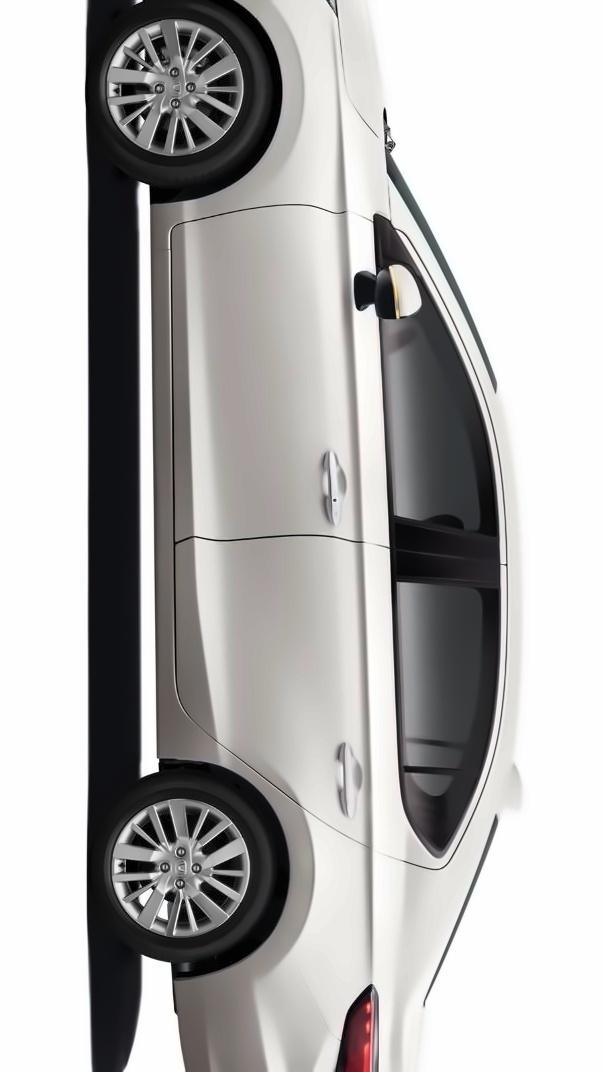Car hood: (320, 0, 417, 141)
Fender - -F-L-: (150, 0, 404, 224)
Fender - -R-L-: (174, 734, 484, 1003)
Passenger-s door - -F-L-: (97, 197, 565, 550)
Passenger-s door - -R-L-: (122, 520, 570, 874)
Rear bumper: (177, 944, 347, 1072)
Rear light - -L-: (334, 980, 384, 1072)
Side bumper - -L-: (119, 175, 259, 785)
Side mirror - -L-: (352, 262, 426, 333)
